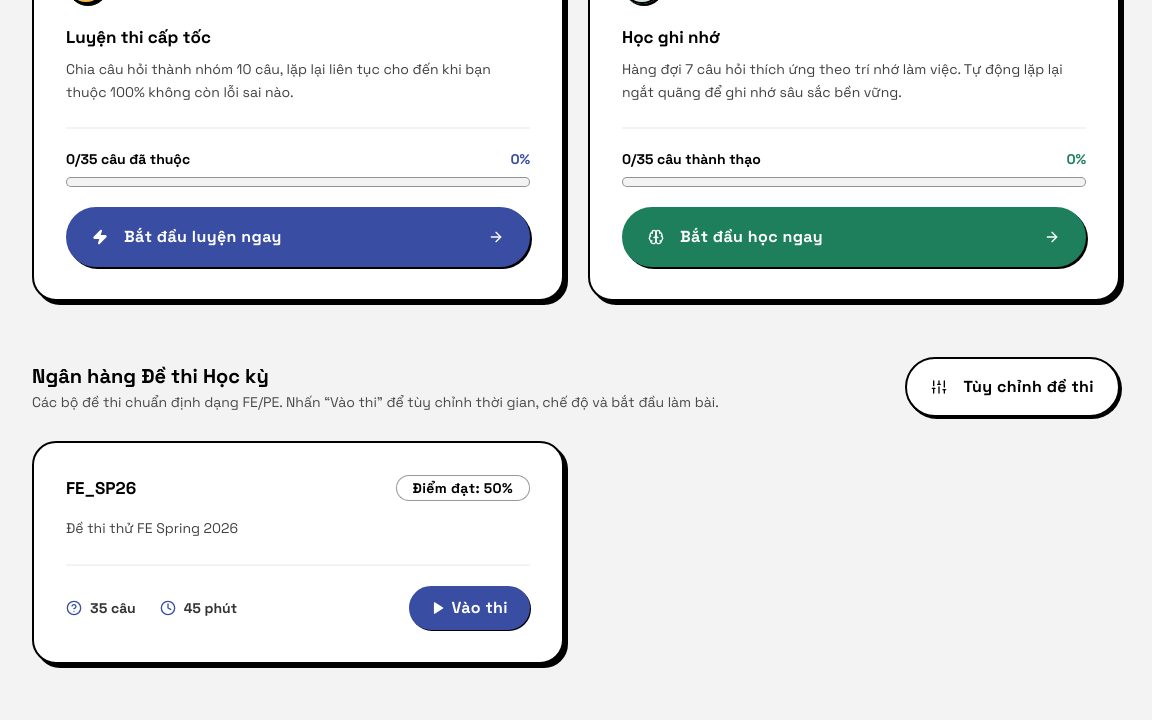
Test case: SubjectDetailView › renders a single Vào thi button per exam card (no Tùy chỉnh) and opens Tùy chỉnh đề luyện thi pre-filled
The width and height of the screenshot is (1152, 720).
(page scrolled)
Check: the text "Đề thi thử FE Spring 2026" is shown, box [66,519,238,537]
// Clicking "Vào thi" opens "Tùy chỉnh đề luyện thi" modal without immediately starting attempt
Click the button "Vào thi" at x=470, y=608, box [409,586,530,630]
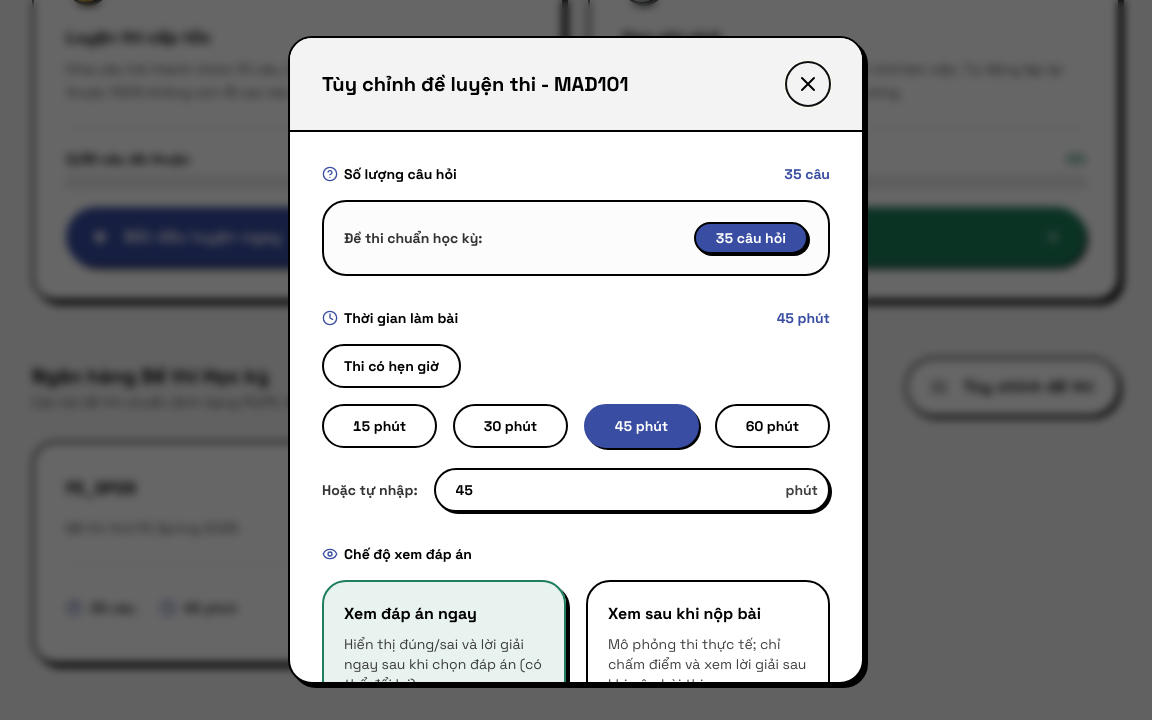
Check: the text "35 câu hỏi" is shown, box [694,222,808,254]
Check: the number field named "Tùy chỉnh số phút" holds "45", box [434,468,830,512]
